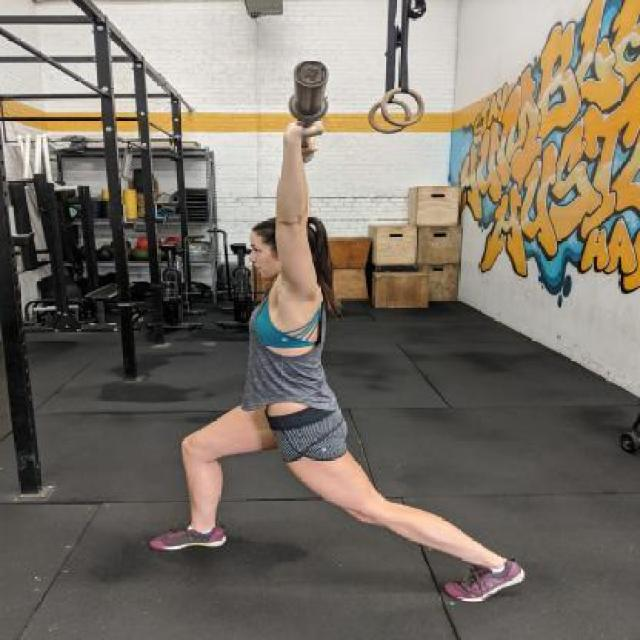barbell: (285, 60, 335, 127)
